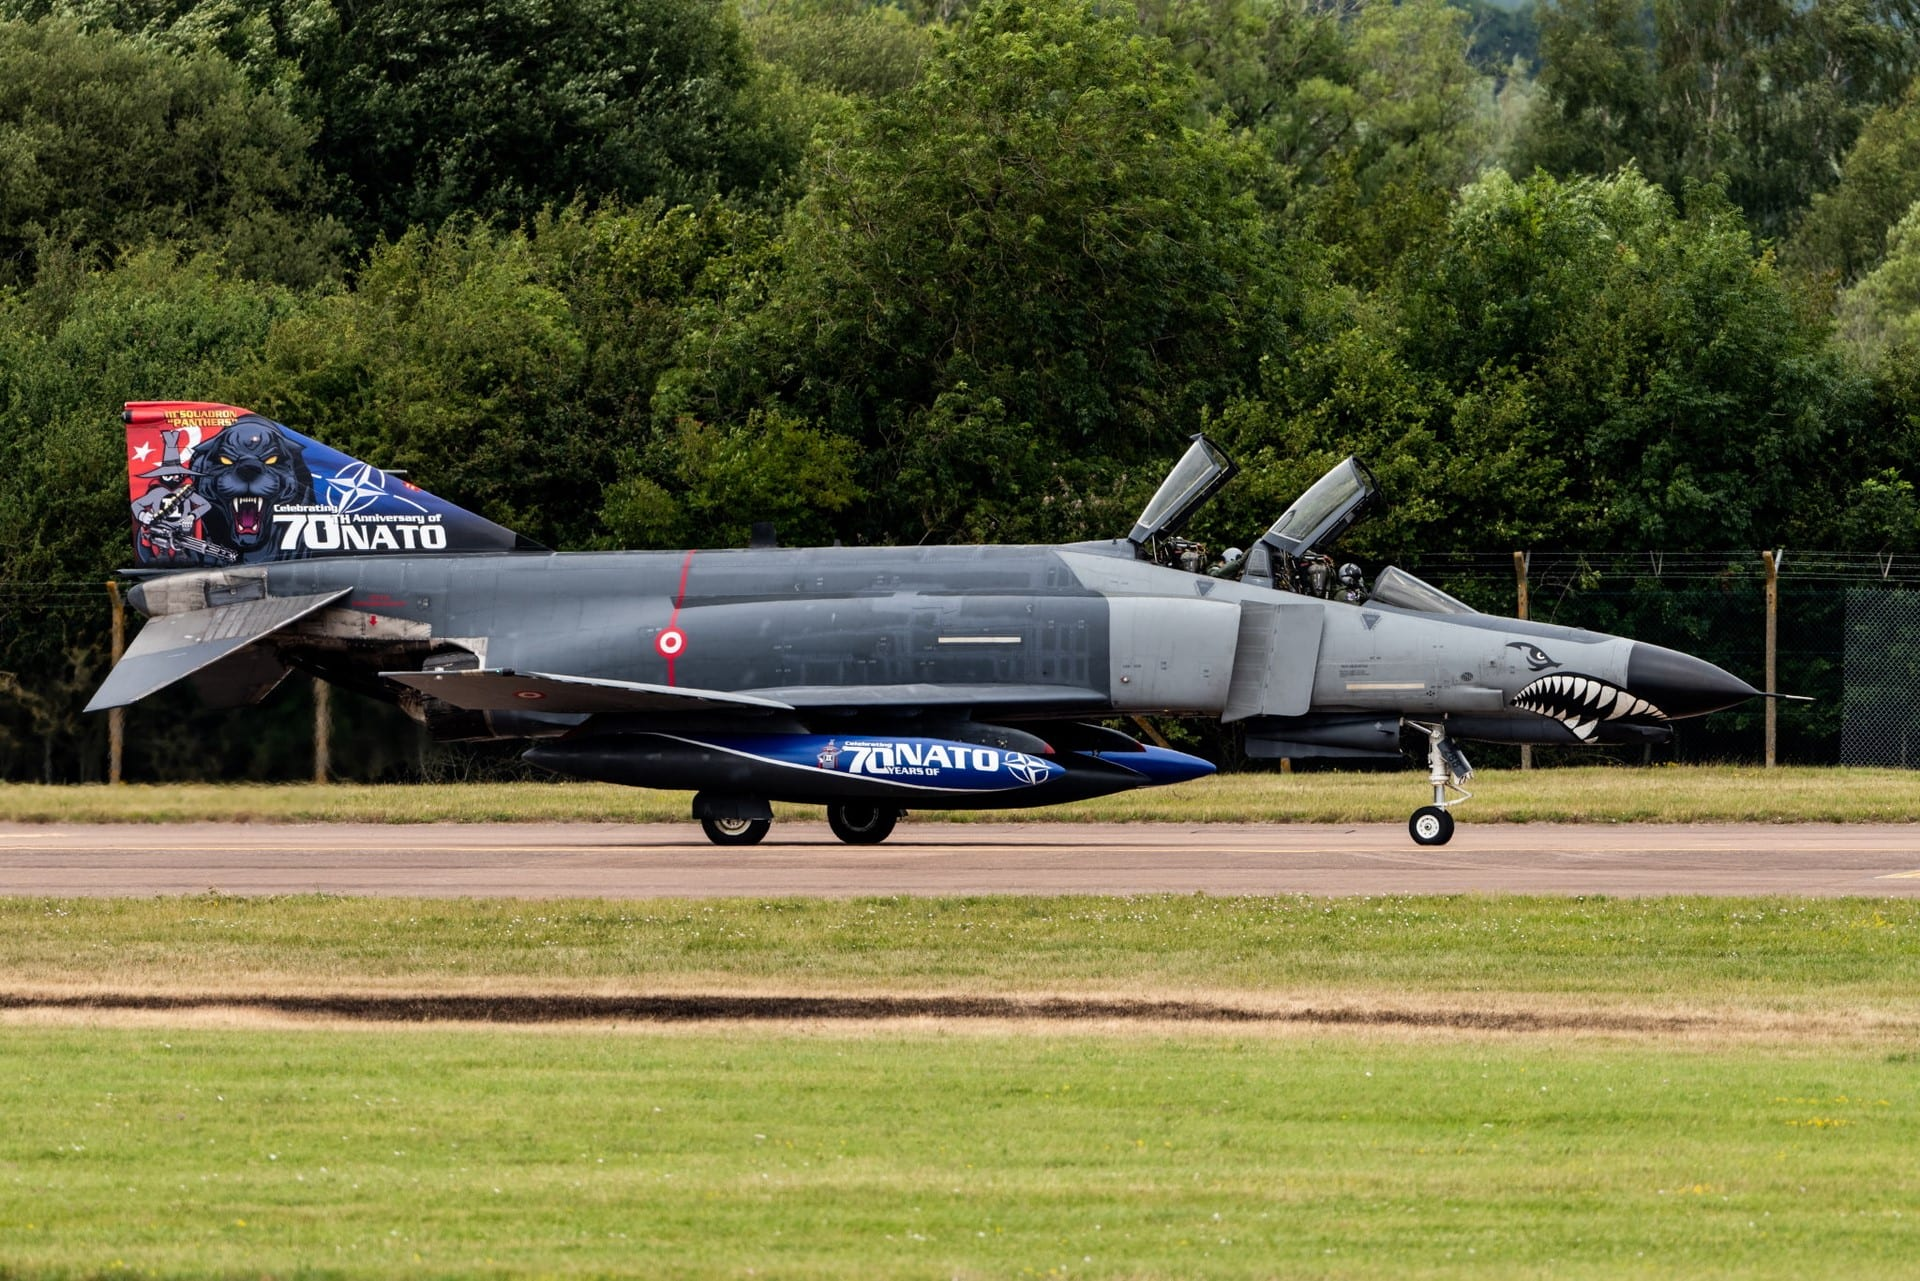F4: (81, 400, 1817, 845)
